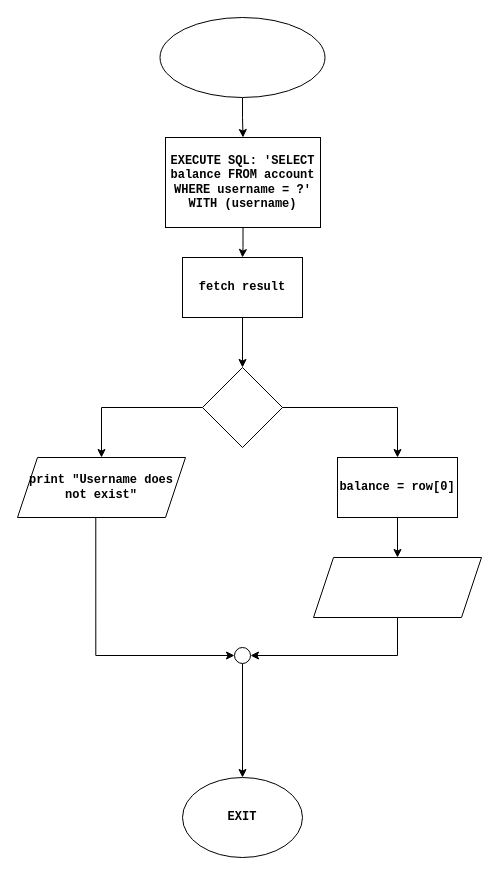
Some shapes in this 499 by 875 pixel diagram are drawn without their labels. Here are the shapes that lost their labels. From the top down, the centre of each, then its label:
At point 242,57: "check_balance(username)".
At point 242,407: "if row".
At point 397,587: "print balance".
